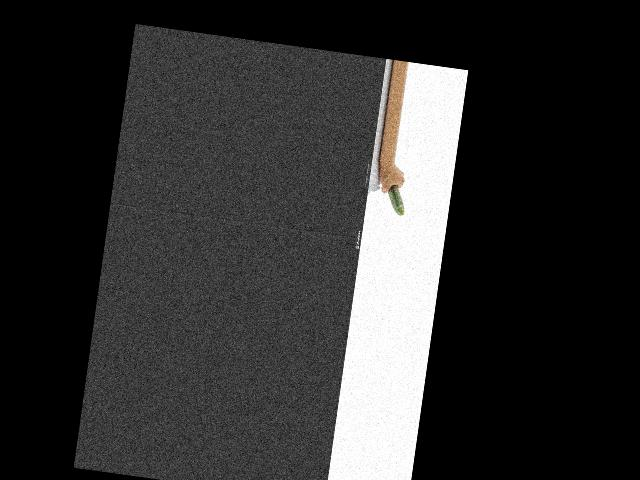cucumber: (384, 183, 407, 215)
